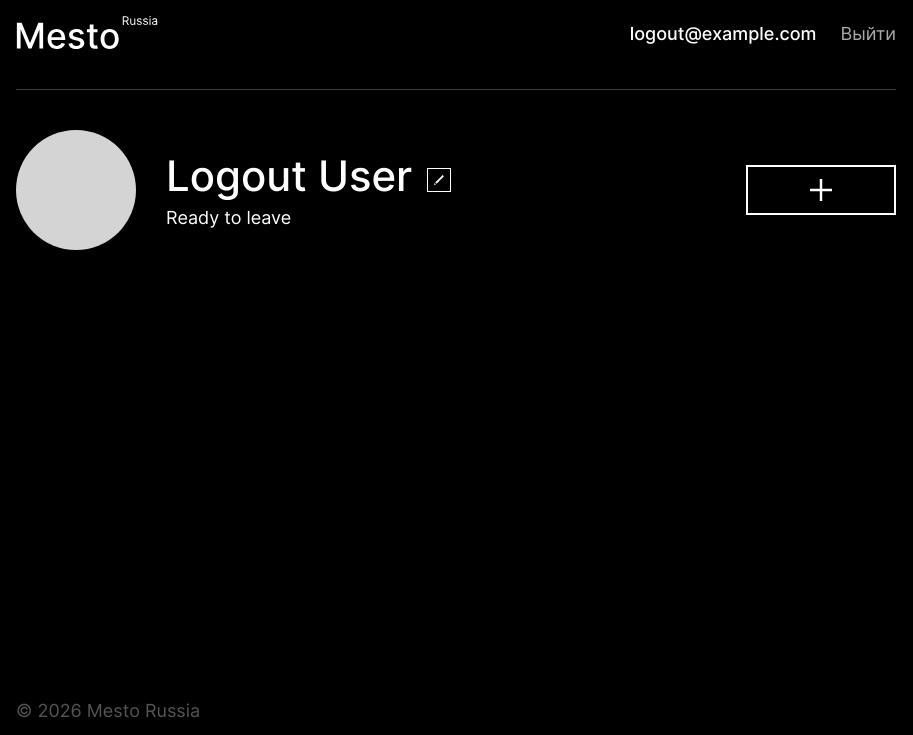
it: App frontend baseline › logout clears local session and returns user to signin screen
The width and height of the screenshot is (913, 735).
Expected: the heading "Logout User" is shown, [166,152,412,200]
Click the link "Выйти". click: (868, 34)
box: [840,23,896,45]
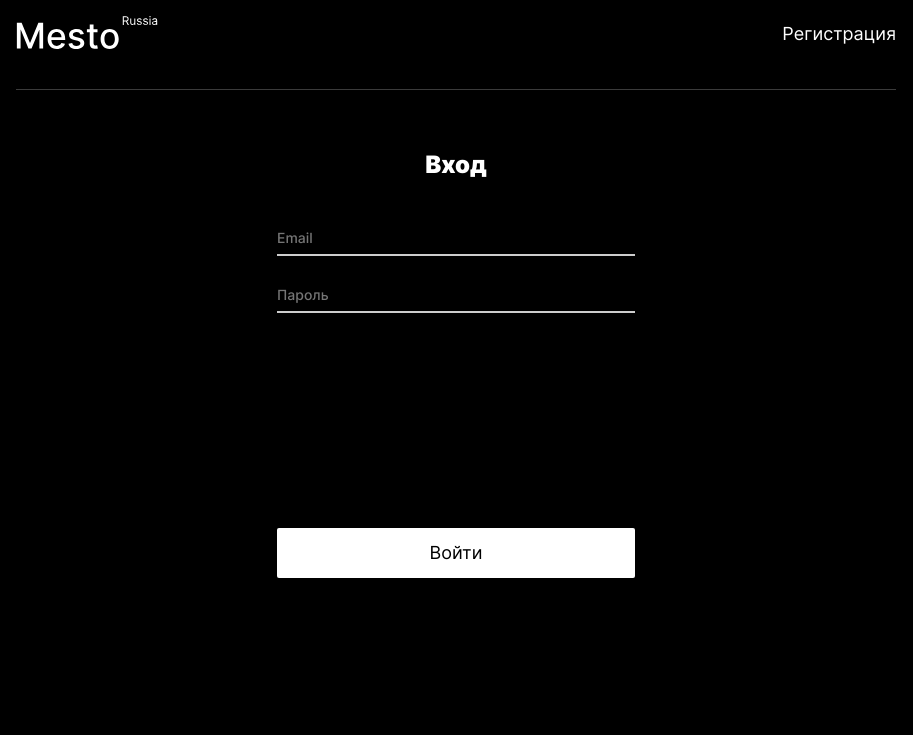
Result: the heading "Вход" is shown at [425,150,487,179]
